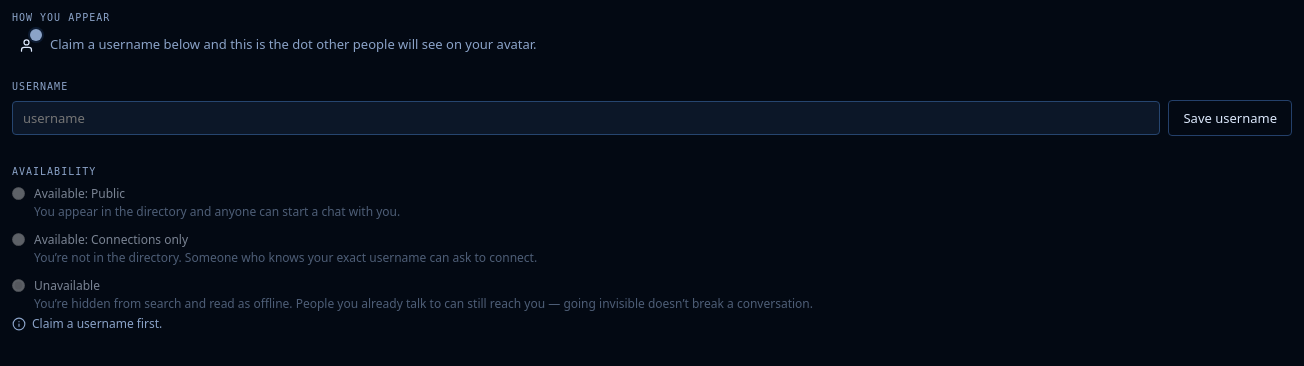
Scenario: SettingsChatPane — claiming a username › a probe reply that lands after the field was CLEARED does not paint on the empty field
The image size is (1304, 366).
Type "alice" into the field with test id "chat-username-input" at (586, 118), box [12, 101, 1160, 135]
Wait 400 ms
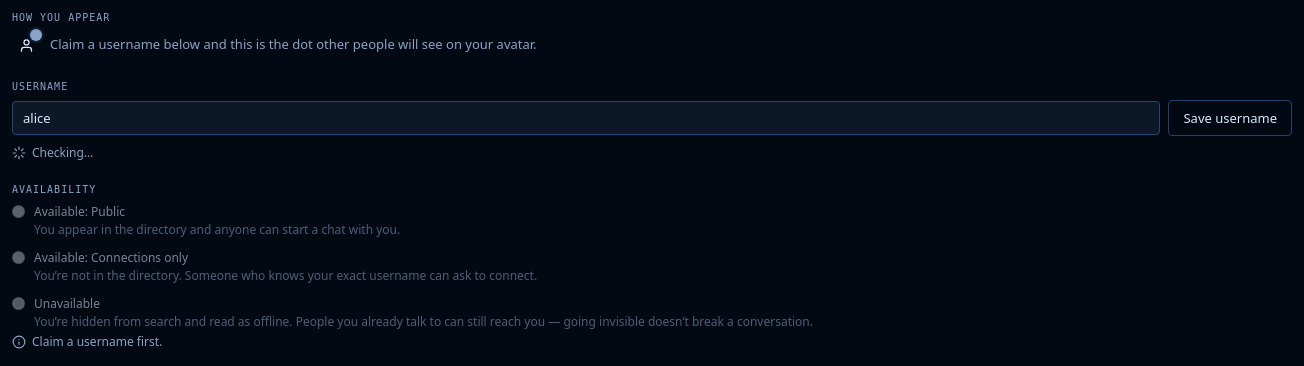
Clear the field with test id "chat-username-input" at (586, 118), box [12, 101, 1160, 135]
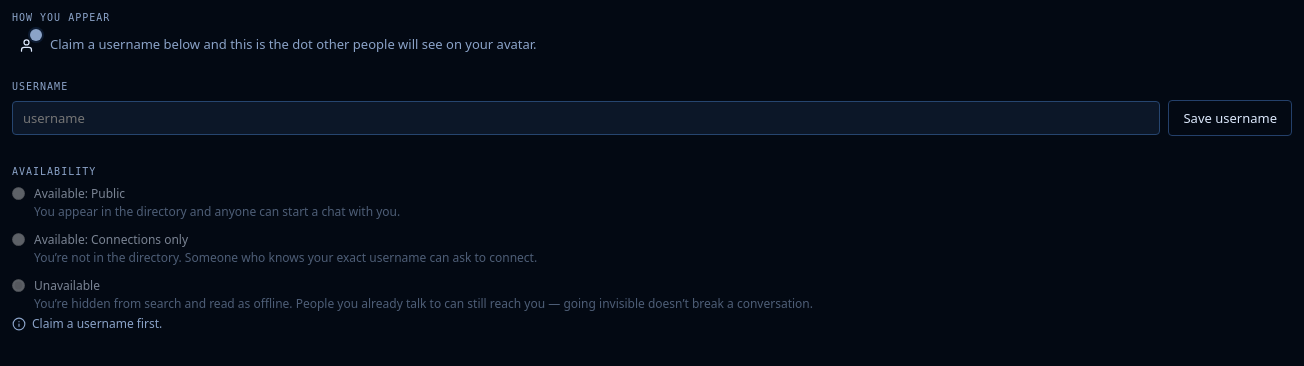
expect the element with test id "chat-username-check" is gone: met
